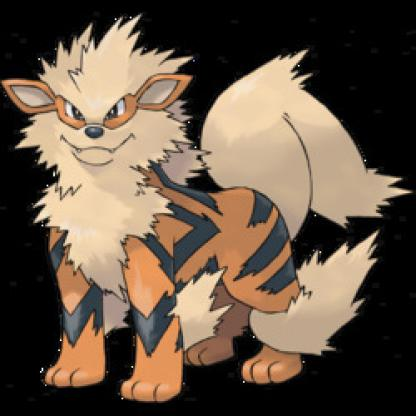Arcanine: (11, 15, 370, 401)
